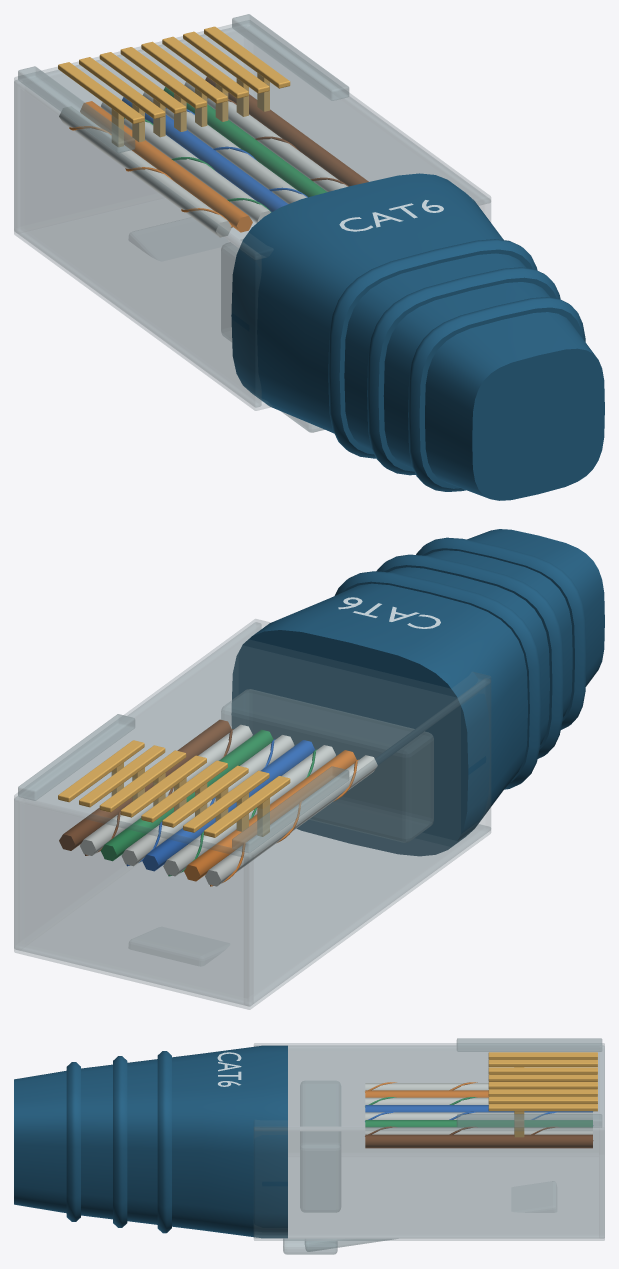
File: rj45_cat6_plug.glb
3 views of the same model, one above another, from view 1: azimuth 30°, elevation 25°; view 2: azimuth 150°, elevation 25°; view 3: azimuth 270°, elevation 25° (orthographic). The views are drawn at different scales.
Visible parts, largest first — view 1: Strain_Relief_Boot, Plug_Housing, Termination_Conductors, Contacts_8Pin, Latch_Clip; view 2: Plug_Housing, Strain_Relief_Boot, Termination_Conductors, Contacts_8Pin, Latch_Clip; view 3: Plug_Housing, Strain_Relief_Boot, Termination_Conductors, Contacts_8Pin, Latch_Clip, Boot_Legend.
Part boxes in pixels (x1,y1,x2,y2): Strain_Relief_Boot: [231, 173, 604, 500]; Plug_Housing: [14, 14, 490, 410]; Termination_Conductors: [59, 77, 368, 237]; Contacts_8Pin: [58, 26, 290, 146]; Latch_Clip: [129, 217, 324, 432]; Plug_Housing: [14, 619, 491, 1009]; Strain_Relief_Boot: [231, 529, 604, 856]; Termination_Conductors: [59, 719, 377, 886]; Contacts_8Pin: [58, 740, 290, 837]; Latch_Clip: [129, 927, 229, 965]; Plug_Housing: [253, 1038, 604, 1240]; Strain_Relief_Boot: [14, 1045, 287, 1238]; Termination_Conductors: [365, 1082, 593, 1148]; Contacts_8Pin: [488, 1052, 597, 1137]; Latch_Clip: [283, 1181, 556, 1254]; Boot_Legend: [217, 1052, 241, 1086].
Size of the model in its own units: 0.0116 by 0.0111 by 0.0345.
